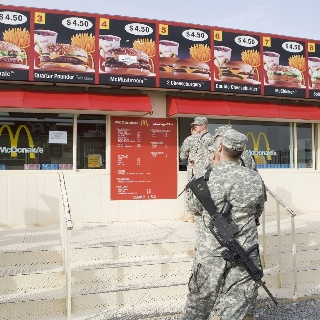rifle: (188, 176, 282, 306)
